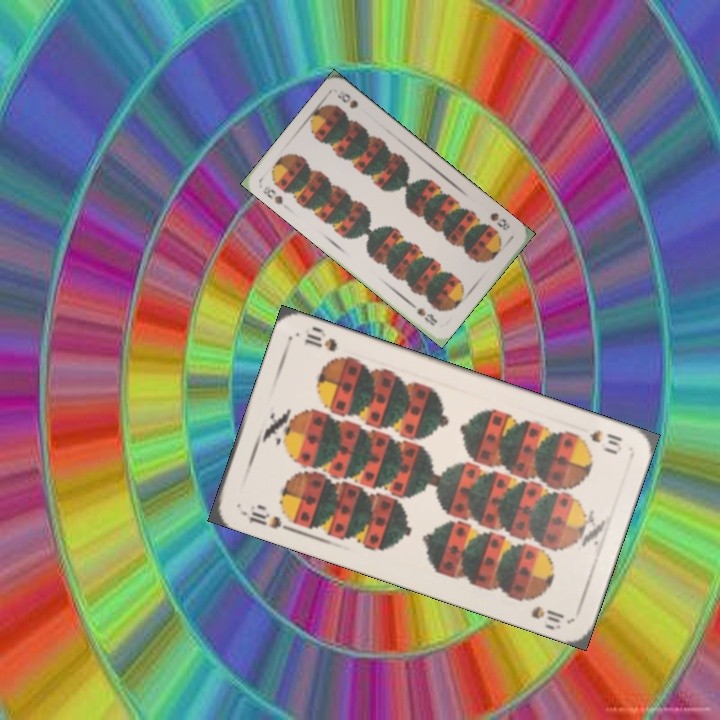S10: (570, 425, 625, 456), (245, 501, 294, 534)
S8: (258, 182, 286, 207), (486, 208, 512, 233)
